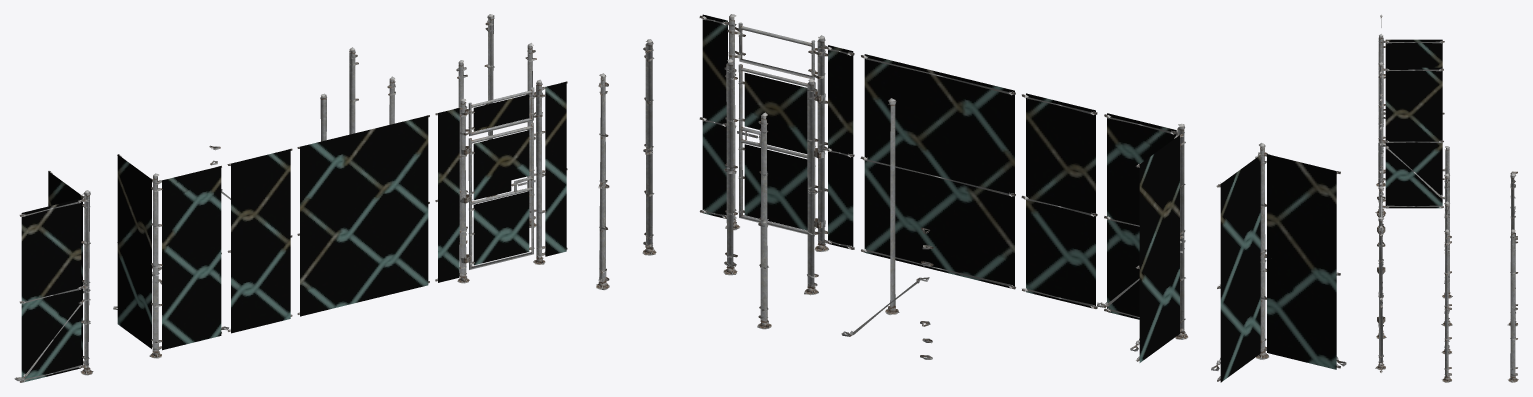
The model's file is Decor_Fence.fbx.
3 views of the same model, side by side, from view 1: azimuth 30°, elevation 25°; view 2: azimuth 150°, elevation 25°; view 3: azimuth 270°, elevation 25° (orthographic). The views are drawn at different scales.
Visible parts, largest first — view 1: Decor_Fence; view 2: Decor_Fence; view 3: Decor_Fence.
Boxes of the visible parts, bbox=[...] form: Decor_Fence: bbox=[14, 14, 567, 382]; Decor_Fence: bbox=[596, 14, 1346, 382]; Decor_Fence: bbox=[1375, 14, 1518, 382].
Size of the model in its own units: 6.44 by 2 by 1.72.
Materials: 2 (2 with a texture image).
